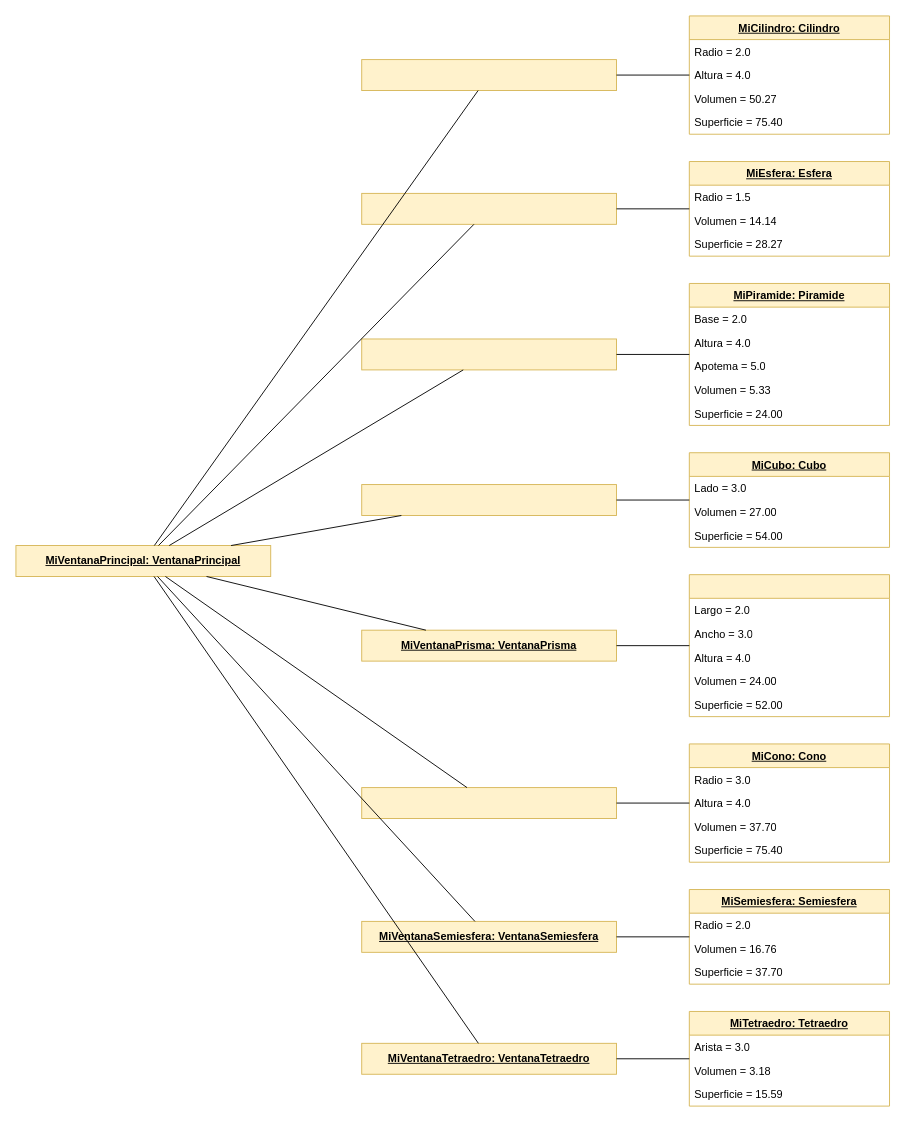
Image size: 905x1125. Some labels were removed from this diagram. Here are the shapes that lost their labels. From the top down, the box of each, then its label:
(361, 59, 617, 91): MiVentanaCilindro: VentanaCilindro
(361, 192, 617, 224): MiVentanaEsfera: VentanaEsfera
(361, 338, 617, 370): MiVentanaPiramide: VentanaPiramide
(361, 484, 617, 516): MiVentanaCubo: VentanaCubo
(688, 574, 890, 717): MiPrisma: Prisma
(361, 787, 617, 819): MiVentanaCono: VentanaCono
